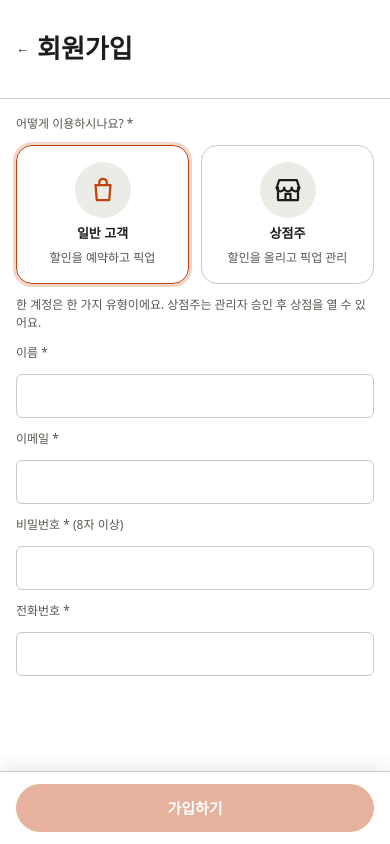
Test case: SignupPage (A2) › 409면 이메일 칸 바로 아래 「이미 가입된 이메일입니다.」가 보이고 입력값·URL을 유지한다
expect the heading "회원가입" is shown: met, box [37,29,133,68]
Type "홍길동" into the field labelled "이름 *". click: {"x": 195, "y": 396}
box: [16,374,374,418]
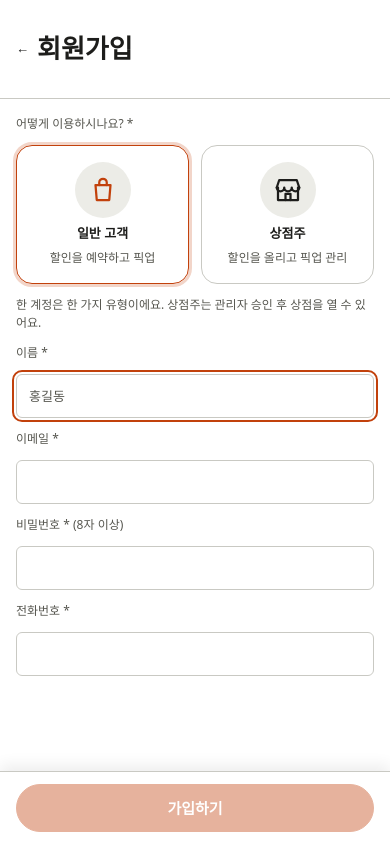
Type "a@b.c" into the field labelled "이메일 *". click: {"x": 195, "y": 482}
box: [16,460,374,504]
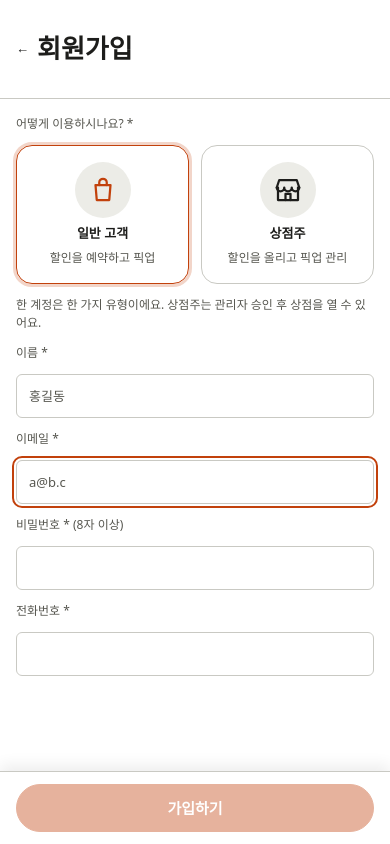
Type "pw123456" into the password field labelled "비밀번호 * (8자 이상)". click: {"x": 195, "y": 568}
box: [16,546,374,590]
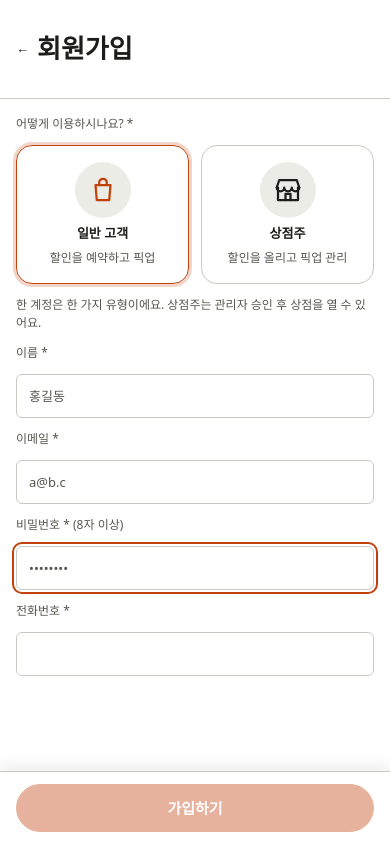
Type "010-1" into the field labelled "전화번호 *". click: {"x": 195, "y": 654}
box: [16,632,374,676]
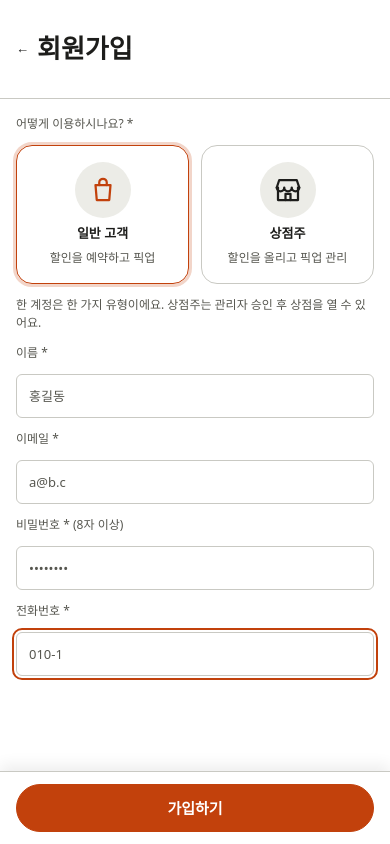
Click the button "가입하기". click: {"x": 195, "y": 808}
box: [16,784,374,832]
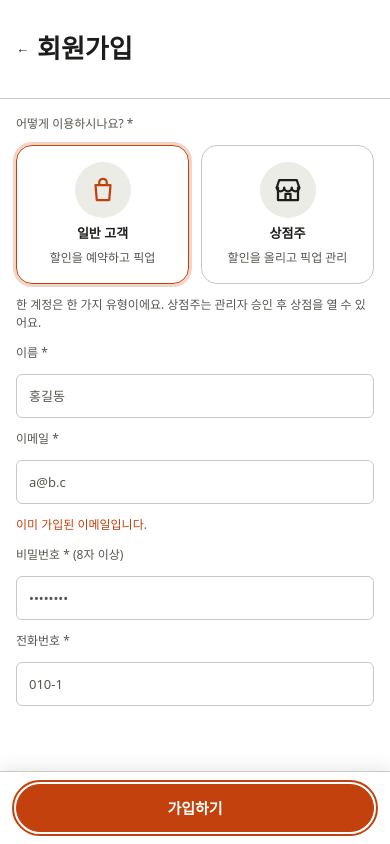
expect the message reads "이미 가입된 이메일입니다.": met, box [16,516,147,533]
